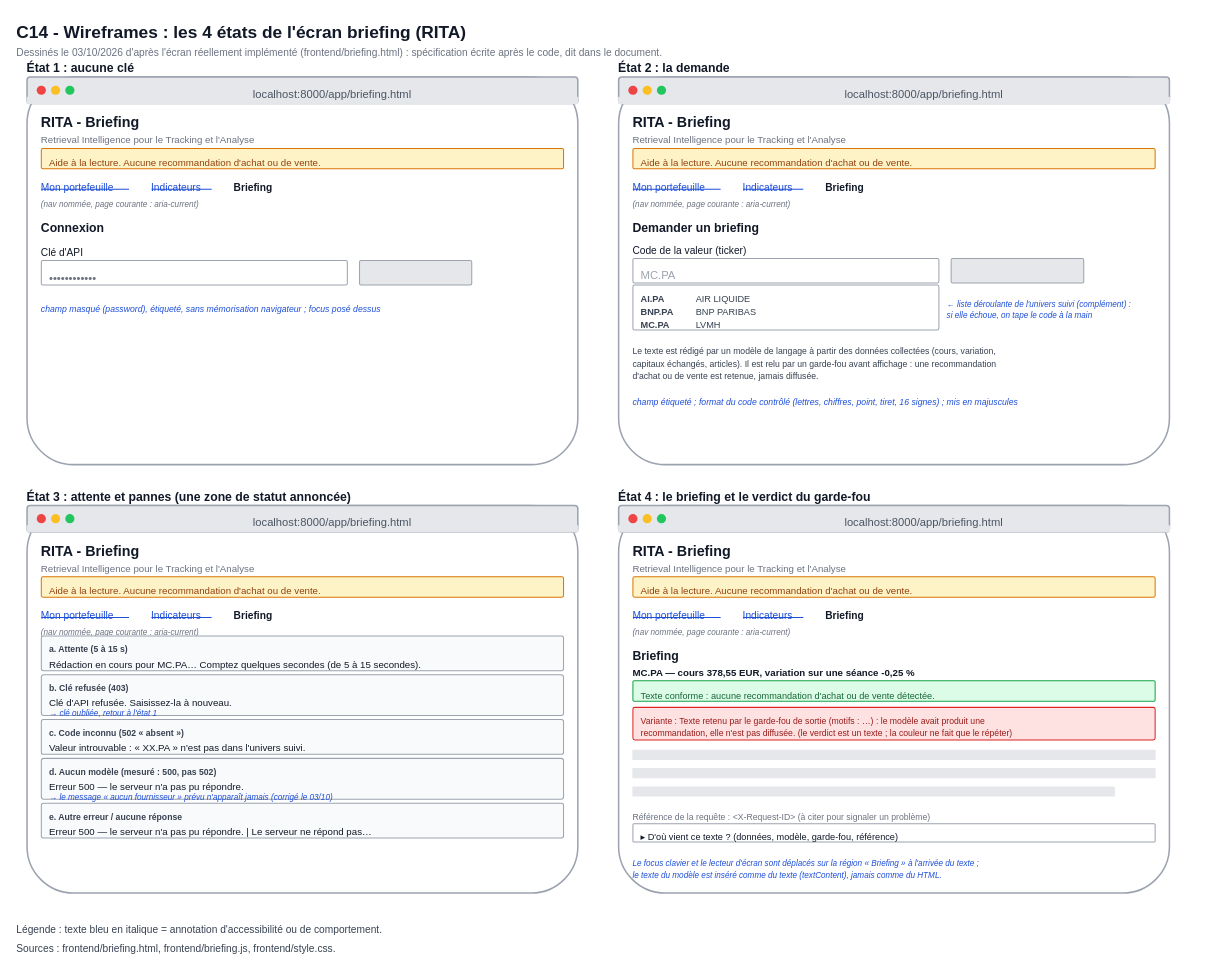
The diagram is 1207 pixels wide and 970 high, and some of its shapes have lost their labels. The centre of each missing label's shape, as x and y in pixels:
Rédiger le briefing: point 1017,270
Se connecter: point 415,272
